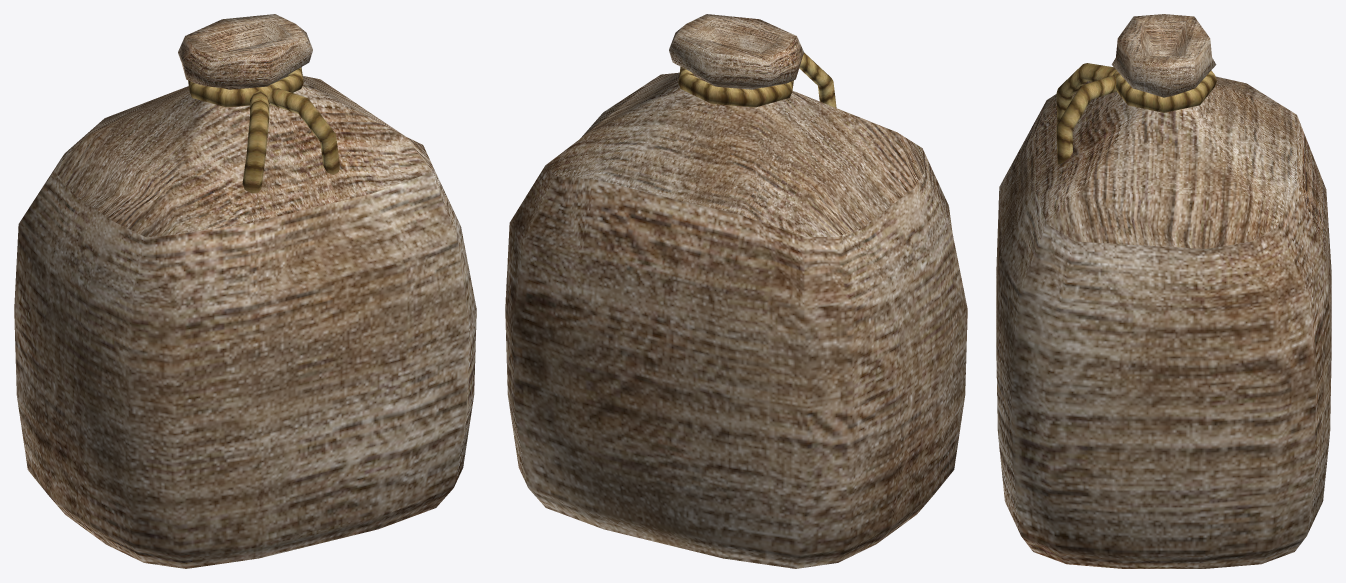
File: bag-04.fbx
3 views of the same model, side by side, from view 1: azimuth 30°, elevation 25°; view 2: azimuth 150°, elevation 25°; view 3: azimuth 270°, elevation 25° (orthographic).
Parts seen in each view (by area): view 1: Cube.246; view 2: Cube.246; view 3: Cube.246.
Boxes of the visible parts, x1,y1,x2,y2 form: Cube.246: (14,14,476,568); Cube.246: (505,14,967,568); Cube.246: (996,14,1331,568).
Bounding box in the file's own units: 0.5311 × 0.6272 × 0.4212.
